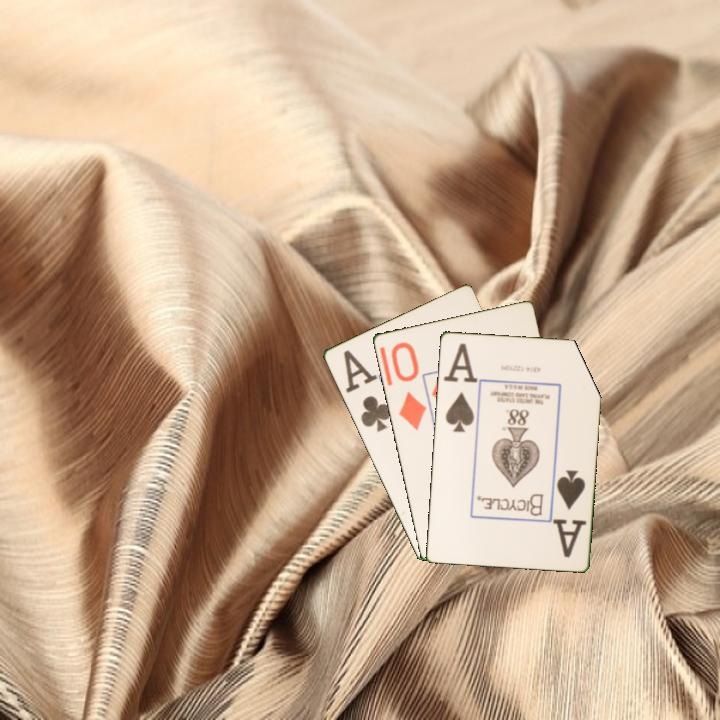10d: (387, 338, 429, 433)
Ac: (339, 346, 394, 435)
As: (550, 466, 589, 560), (442, 348, 477, 435)
